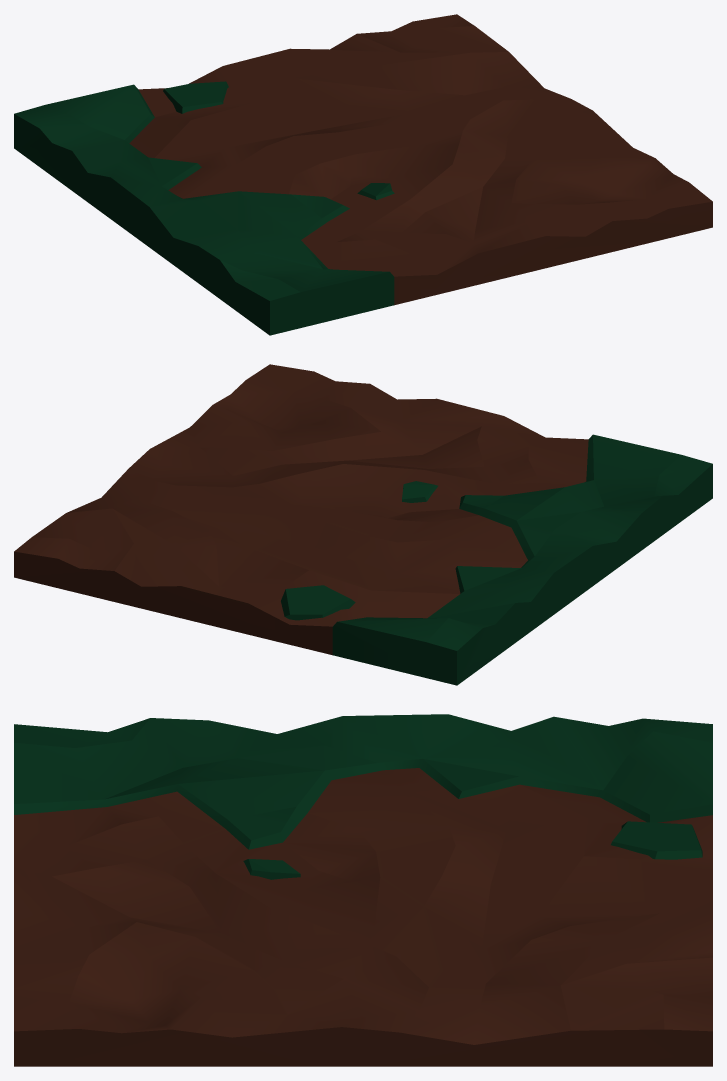
Rendered from Ground_Edge_L.fbx.
The picture shows the model from 3 angles, top to bottom: view 1: azimuth 30°, elevation 25°; view 2: azimuth 150°, elevation 25°; view 3: azimuth 270°, elevation 25°; orthographic projection. The views are drawn at different scales.
Visible parts, largest first — view 1: Ground_Edge_L; view 2: Ground_Edge_L; view 3: Ground_Edge_L.
Boxes of the visible parts, x1,y1,x2,y2 form: Ground_Edge_L: [14, 14, 712, 335]; Ground_Edge_L: [14, 364, 712, 685]; Ground_Edge_L: [14, 714, 712, 1066].
Size of the model in its own units: 147 by 13.97 by 147.
